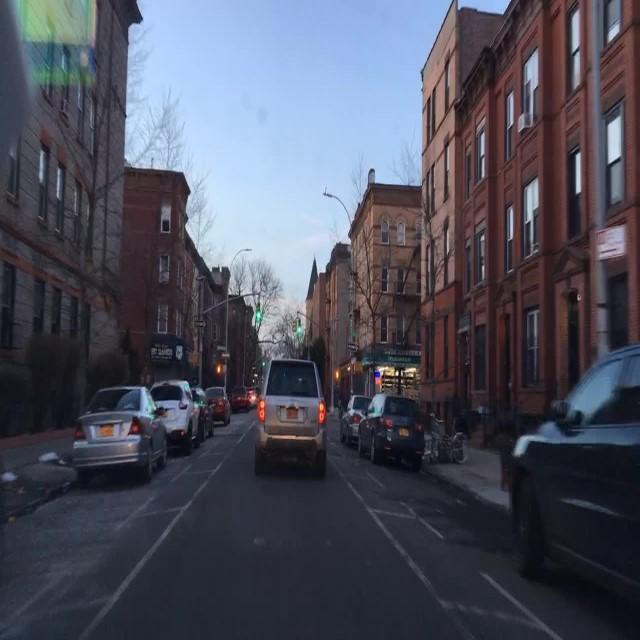normal: (501, 338, 640, 594), (73, 384, 171, 484), (255, 358, 328, 477), (353, 392, 426, 469), (147, 380, 210, 453), (339, 395, 370, 447), (203, 385, 231, 424), (229, 387, 252, 411)
